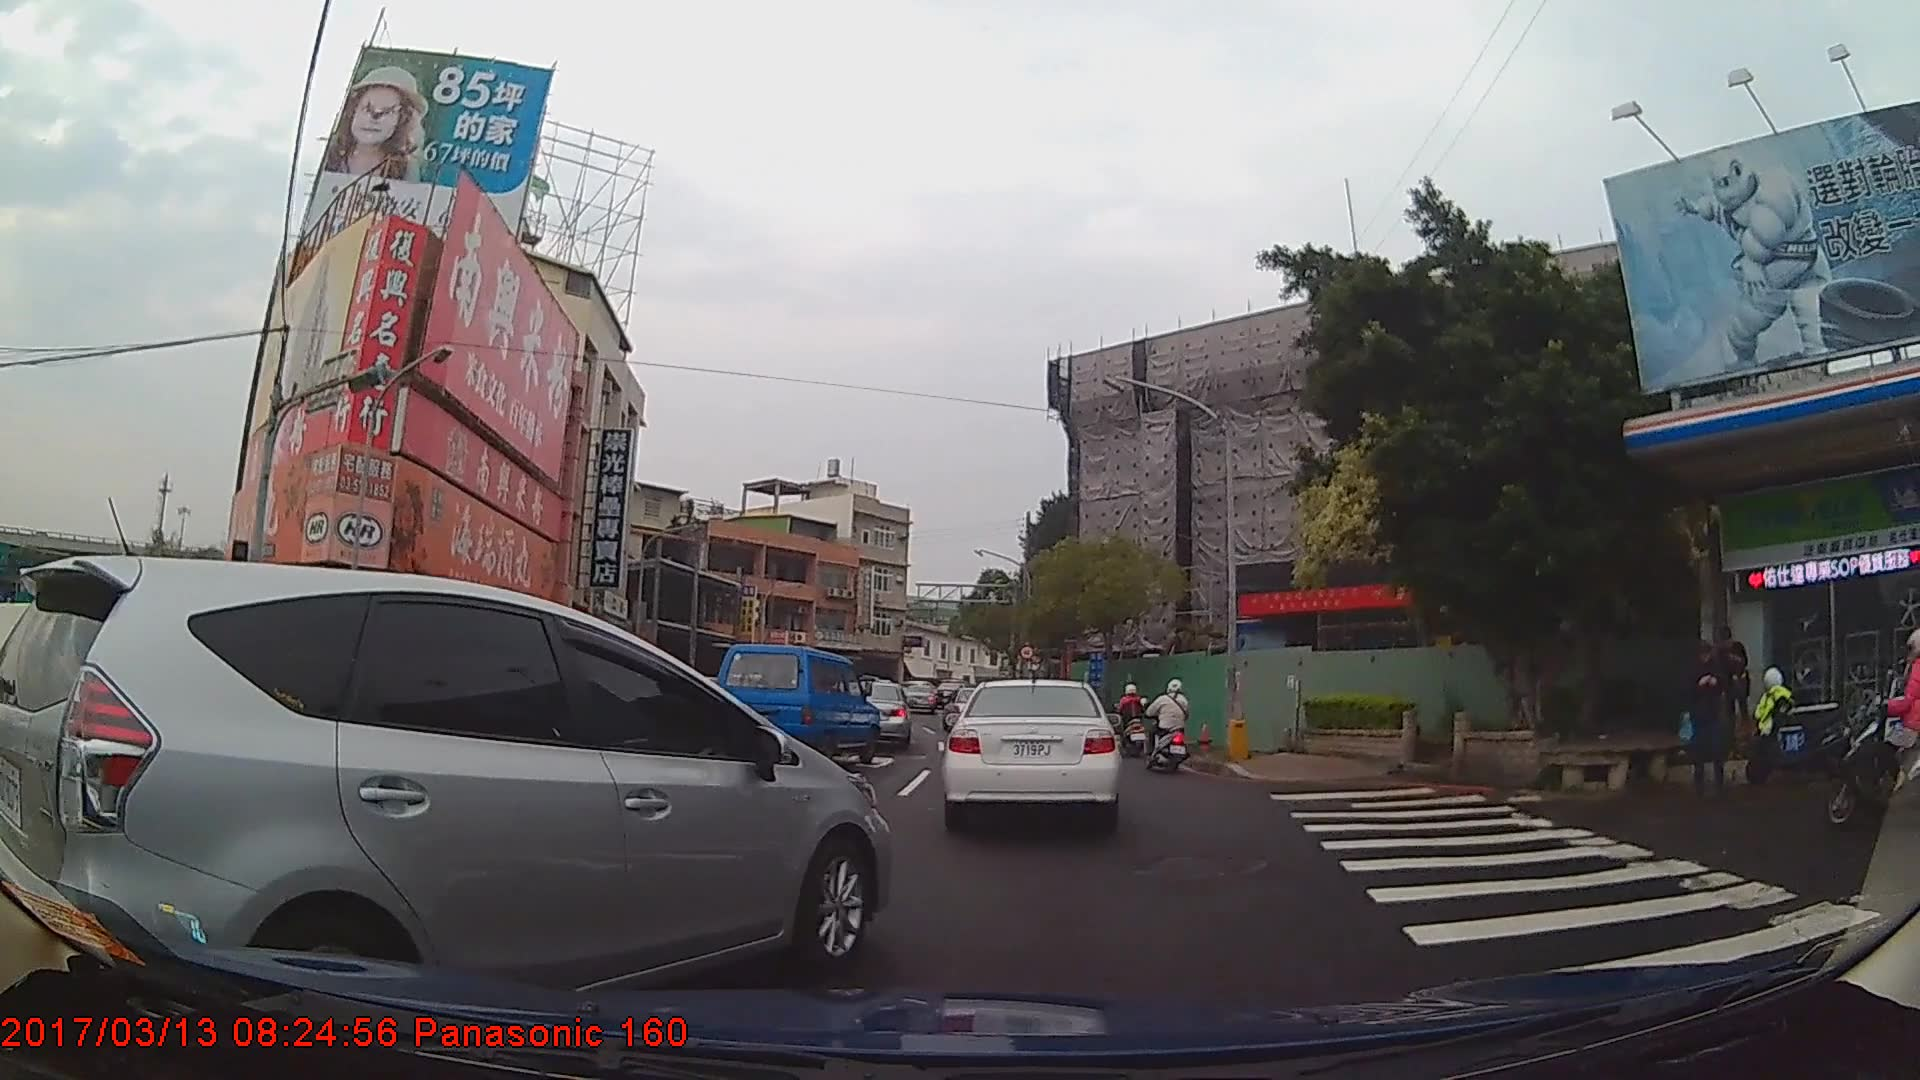pedestrian: (1687, 641, 1735, 796), (1706, 621, 1753, 752)
rider: (1826, 627, 1920, 828), (1151, 676, 1198, 772), (1116, 681, 1151, 757)
vehicle: (0, 557, 895, 1035), (937, 677, 1121, 834), (713, 642, 879, 770), (837, 680, 913, 751)
